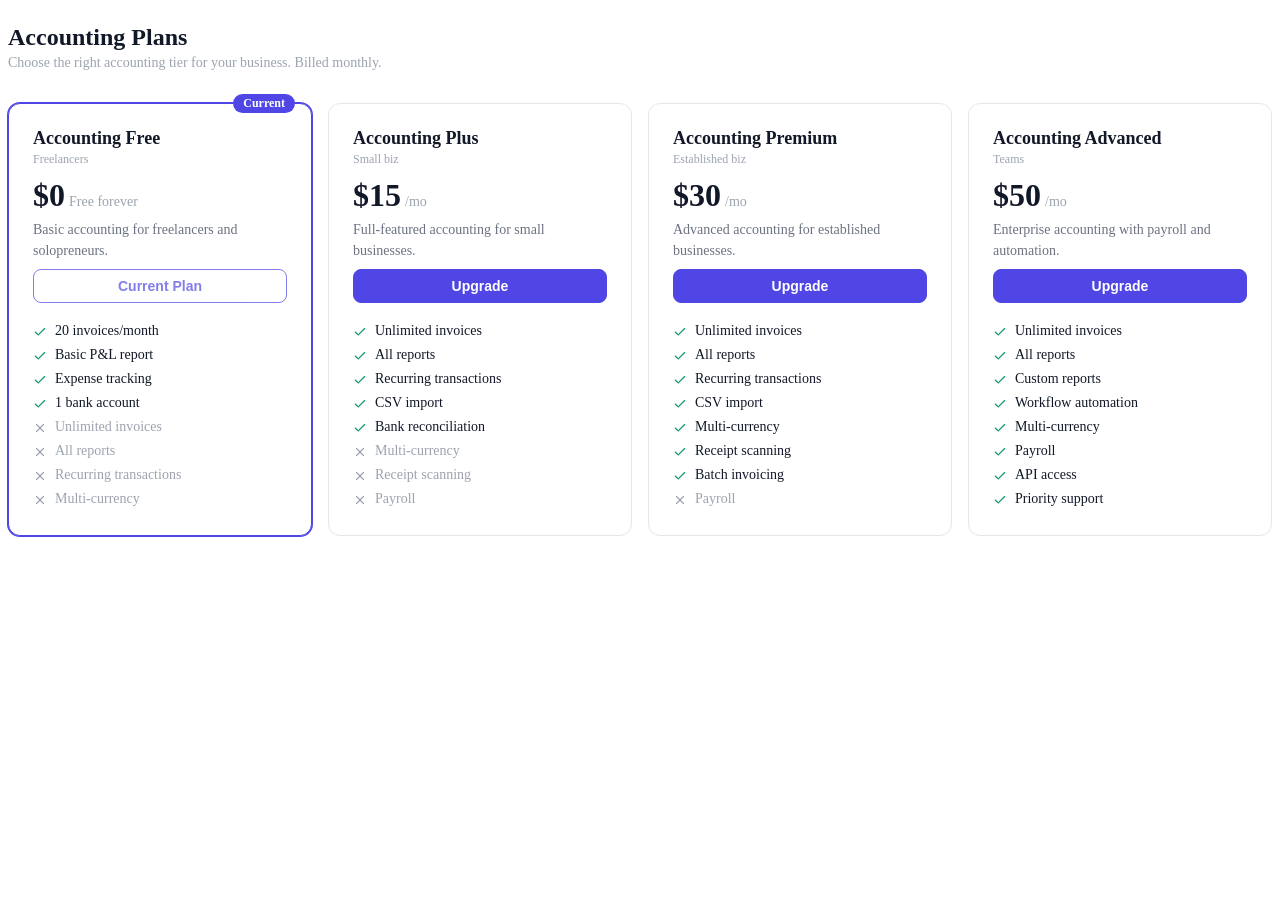
Test case: AccountingPricingPage › opens confirmation modal on plan click
Click the button "Upgrade" below "$15". click: click(480, 286)
box: [353,269,607,303]
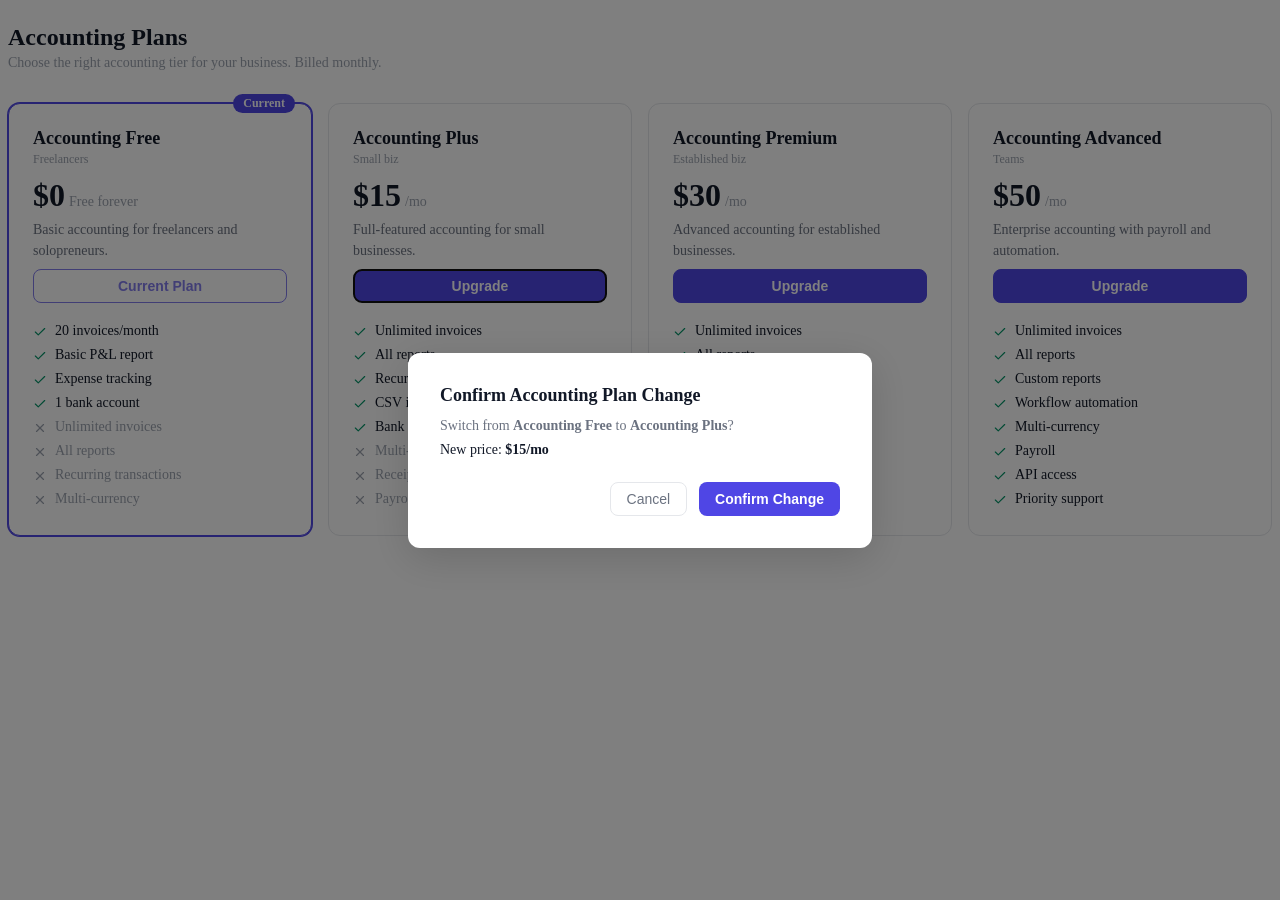
expect the heading "Confirm Accounting Plan Change" is shown: met, box [440,384,700,404]
